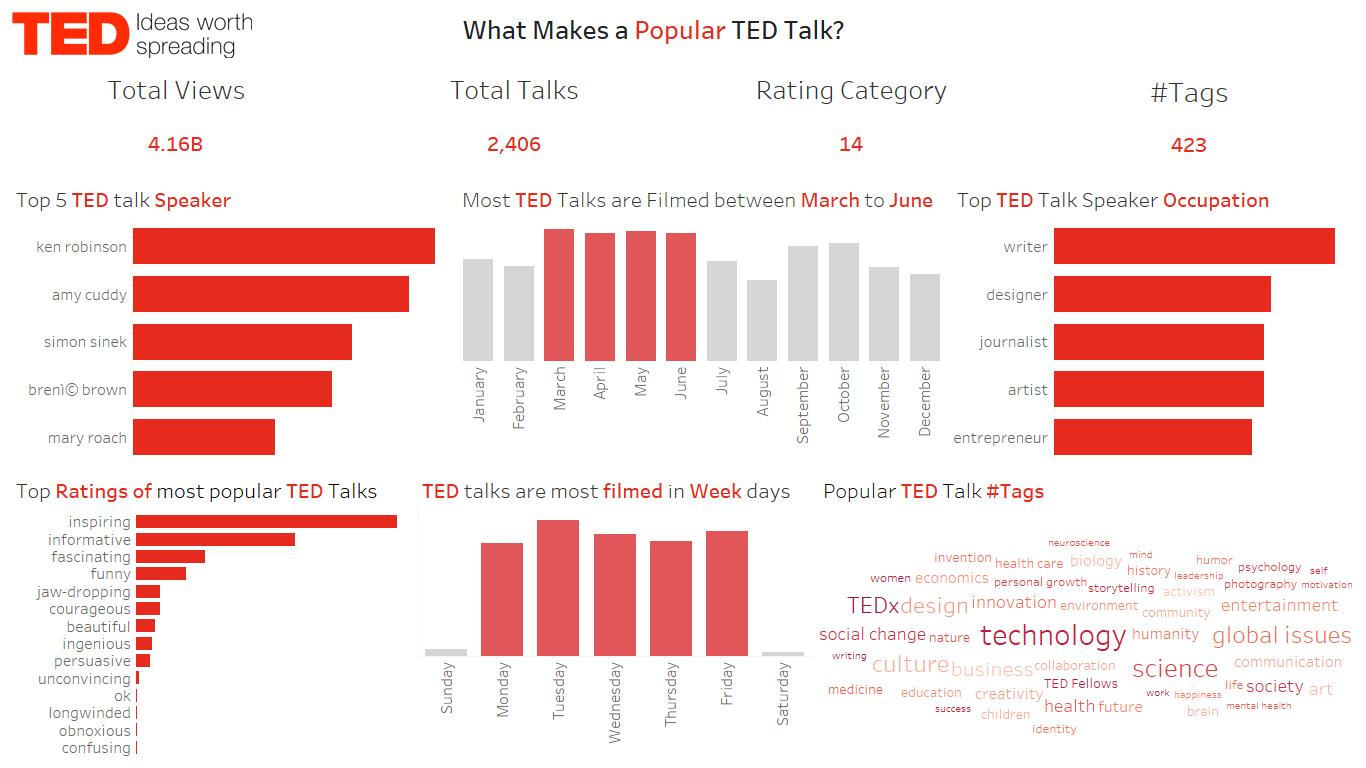

The page's visual inventory and layout, read from the dashboard file:
{"tool":"tableau","page":{"name":"Dashboard 1","canvas":[1366,768],"ordinal":0},"visuals":[{"type":"image","param":"C:/Users/smrit/Desktop/tableu Project/TED Talk EDA/Tableau WB/TedTalk_GRP3.twb F","box":[8,8,447,54.3]},{"type":"text","box":[455,8,903,43]},{"type":"worksheet","title":"total View","mark":"Automatic","box":[8,62.3,337.5,113]},{"type":"worksheet","title":"tot_no_tedtalks","mark":"Automatic","box":[345.5,62.3,337.5,113]},{"type":"worksheet","title":"rating category","mark":"Text","box":[683,62.3,337.5,113]},{"type":"worksheet","title":"tot_tags","mark":"Text","box":[1020.5,62.3,337.5,113]},{"type":"worksheet","title":"top 10 talks","mark":"Bar","rows":["main_speaker"],"cols":["Views (copy)_1027946634829770758"],"box":[8,175.3,445.9,290.2]},{"type":"worksheet","title":"top month","mark":"Bar","rows":["views"],"cols":["published_date"],"box":[453.9,175.3,495.3,290.2]},{"type":"worksheet","title":"oc","mark":"Automatic","rows":["speaker_occupation"],"cols":["speaker_occupation"],"box":[949.2,175.3,408.8,290.2]},{"type":"worksheet","title":"cat","mark":"Automatic","rows":["maximum-rated"],"cols":["views"],"box":[8,465.5,406.1,294.5]},{"type":"worksheet","title":"weekday most filmed","mark":"Bar","rows":["views"],"cols":["Calculation_1027946634810105858"],"box":[414.1,465.5,400.6,294.5]},{"type":"worksheet","title":"top tags","mark":"Text","box":[814.7,465.5,543.3,294.5]}]}

Visuals, with their boxes in screenshot pixels (x1, y1, x2, y2), scaled from the page's 1366x768 canvas onto the 1366x768 screenshot:
image: [8, 8, 455, 62]
text: [455, 8, 1358, 51]
"total View" worksheet: [8, 62, 346, 175]
"tot_no_tedtalks" worksheet: [346, 62, 683, 175]
"rating category" worksheet (Text marks): [683, 62, 1020, 175]
"tot_tags" worksheet (Text marks): [1020, 62, 1358, 175]
"top 10 talks" worksheet (Bar marks): [8, 175, 454, 466]
"top month" worksheet (Bar marks): [454, 175, 949, 466]
"oc" worksheet: [949, 175, 1358, 466]
"cat" worksheet: [8, 466, 414, 760]
"weekday most filmed" worksheet (Bar marks): [414, 466, 815, 760]
"top tags" worksheet (Text marks): [815, 466, 1358, 760]
